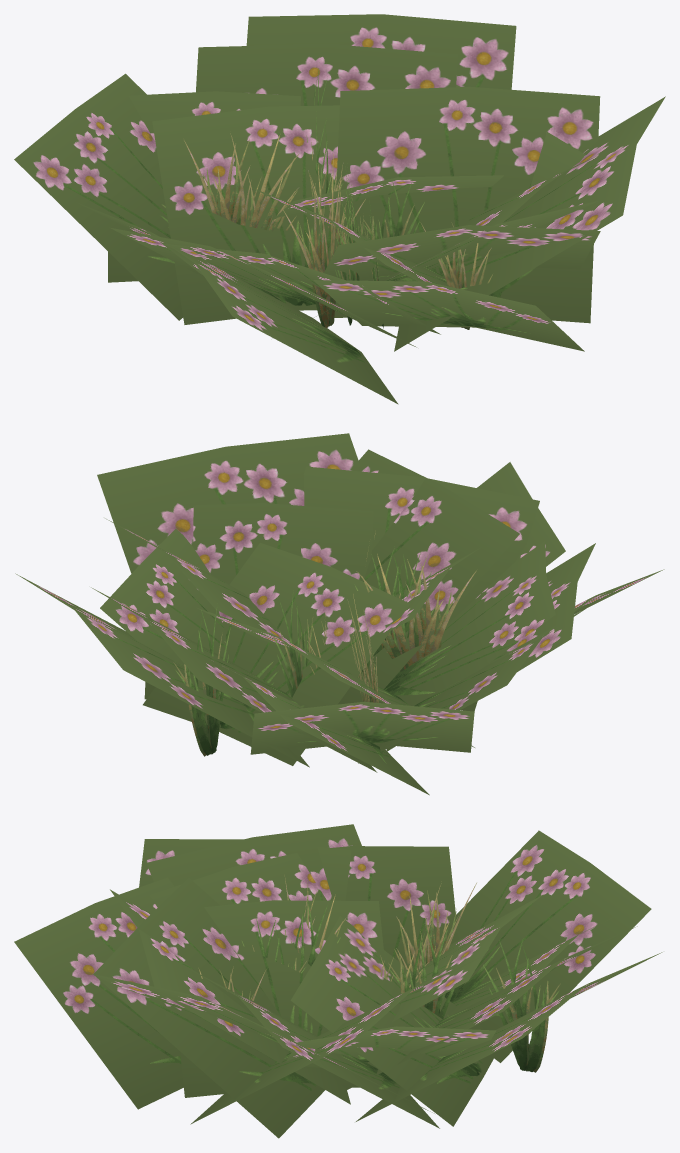
The model's file is flowers_b.glb.
3 renders of one model, top to bottom at view 1: azimuth 30°, elevation 25°; view 2: azimuth 150°, elevation 25°; view 3: azimuth 270°, elevation 25°, orthographic. The views are drawn at different scales.
Visible parts, largest first — view 1: flowers, leaves; view 2: flowers, leaves; view 3: flowers, leaves.
Boxes of the visible parts, x1,y1,x2,y2 form: flowers: [14, 14, 665, 404]; leaves: [184, 68, 492, 329]; flowers: [15, 433, 664, 795]; leaves: [173, 533, 476, 756]; flowers: [14, 824, 662, 1138]; leaves: [198, 875, 560, 1072].
Size of the model in its own units: 1.06 by 0.3301 by 1.21.
Materials: 2 (2 with a texture image).
